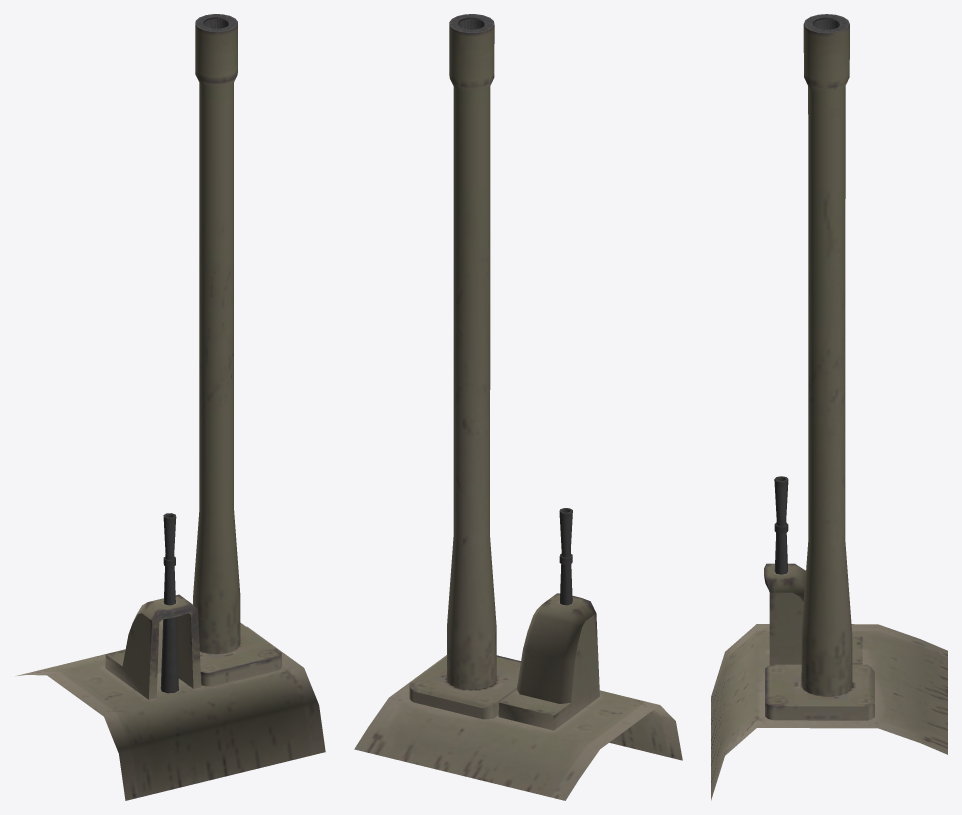
Rendered from Gun_04.glb.
3 views of the same model, side by side, from view 1: azimuth 30°, elevation 25°; view 2: azimuth 150°, elevation 25°; view 3: azimuth 270°, elevation 25° (orthographic). The views are drawn at different scales.
Visible parts, largest first — view 1: set_0_group_0; view 2: set_0_group_0; view 3: set_0_group_0.
Boxes of the visible parts, x1,y1,x2,y2 form: set_0_group_0: (15, 14, 325, 800); set_0_group_0: (354, 14, 682, 800); set_0_group_0: (711, 14, 947, 800).
Bounding box in the file's own units: 0.5352 × 1.79 × 0.5146.
Materials: 1 (1 with a texture image).
